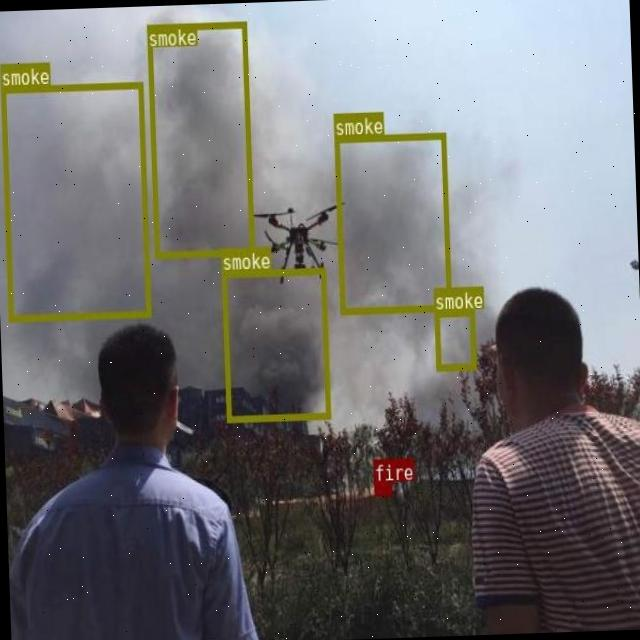fire: (374, 480, 391, 494)
smoke: (0, 81, 149, 320), (146, 20, 254, 256), (334, 130, 449, 314), (222, 266, 330, 422), (434, 308, 474, 370)
